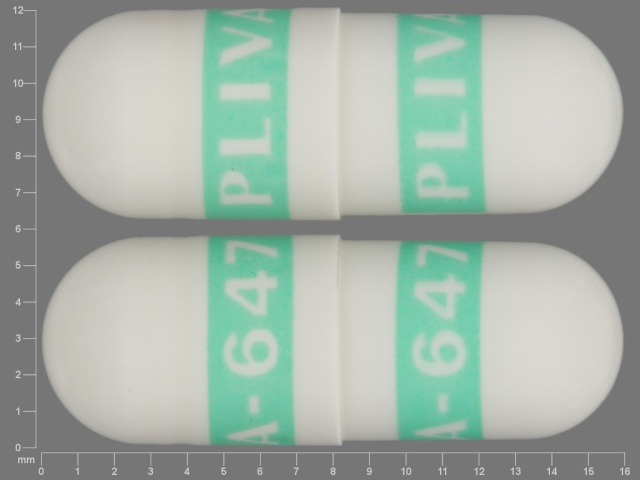capsule: (39, 230, 628, 449), (41, 5, 626, 225)
